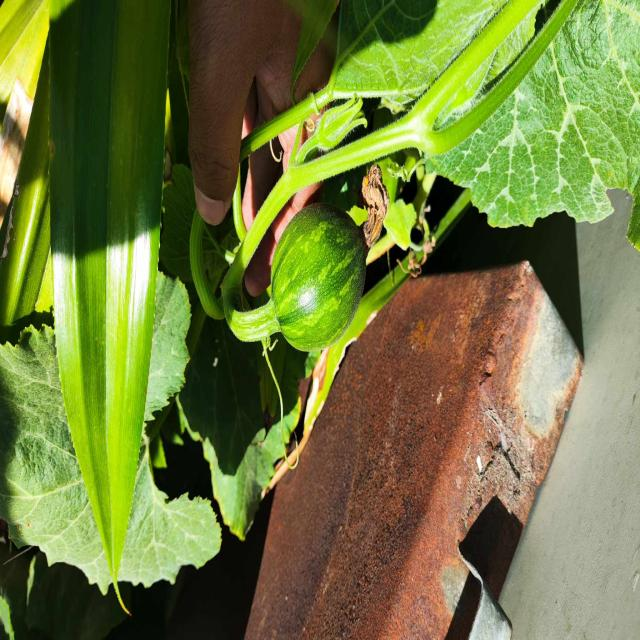squash: (268, 198, 369, 355)
